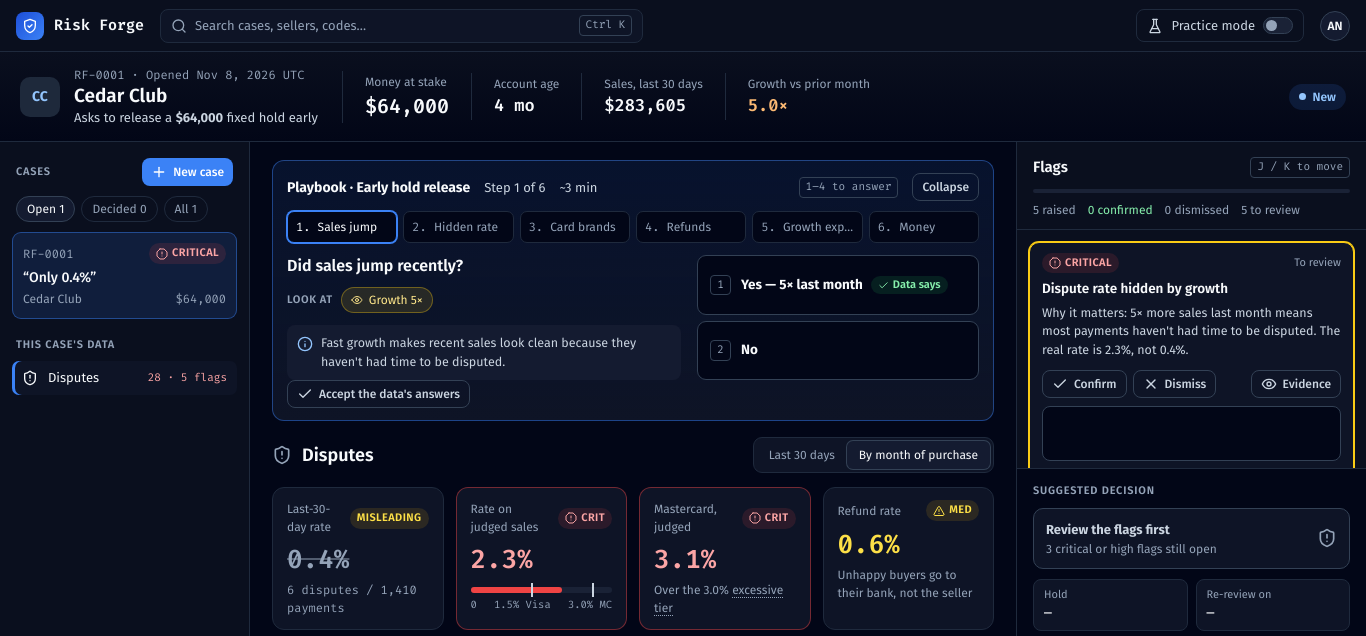
Test: playbook in the console › answering Hidden rate yes confirms the flag and logs one line; the same answer again logs nothing
Expected: the element "Playbook" is shown, x1=272 y1=160 x2=994 y2=421
Expected: the element with class "sel" is shown, x1=1029 y1=242 x2=1354 y2=468
Type keys "11"
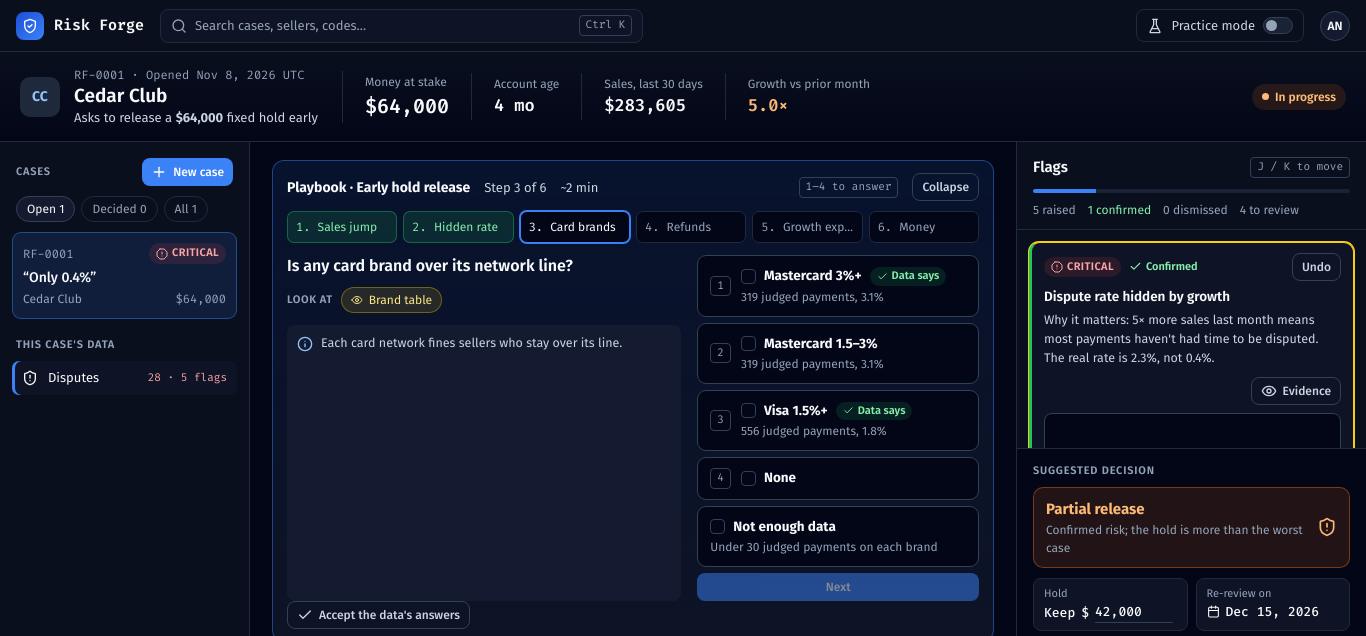
Result: the text "1 confirmed" is shown at x1=1088 y1=201 x2=1151 y2=219
Click the button "Hidden rate" at (466, 227), box x1=434 y1=218 x2=498 y2=236
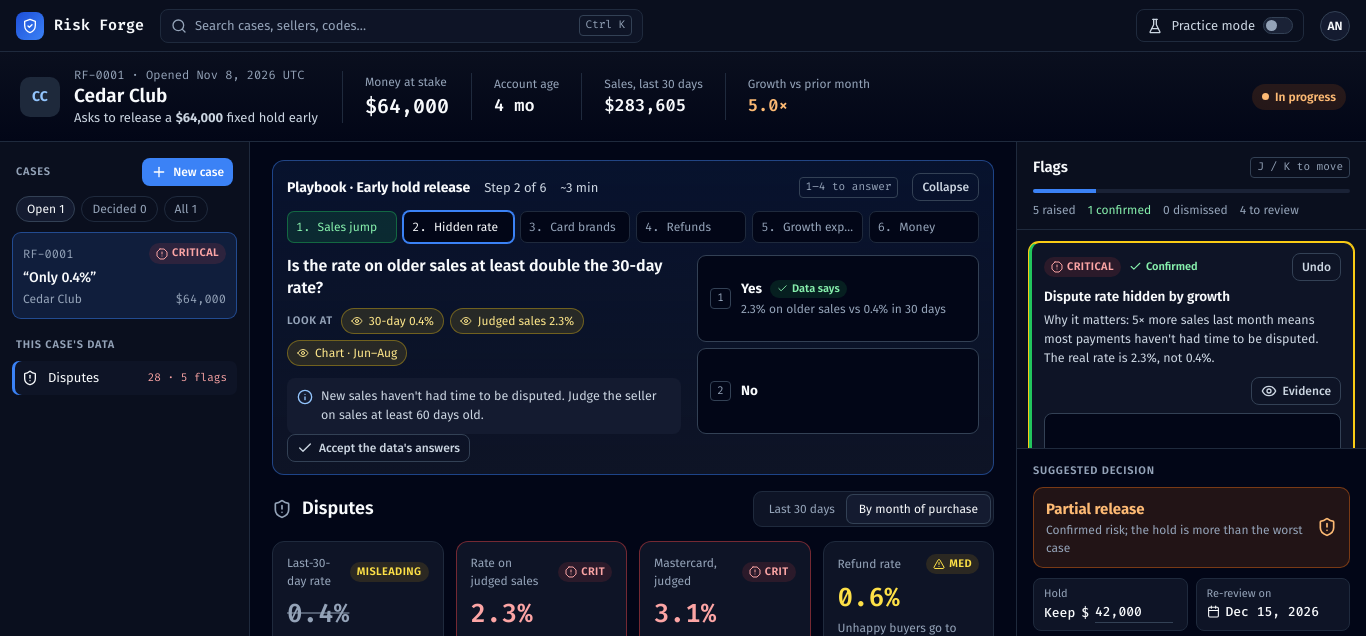
Type keys "1"
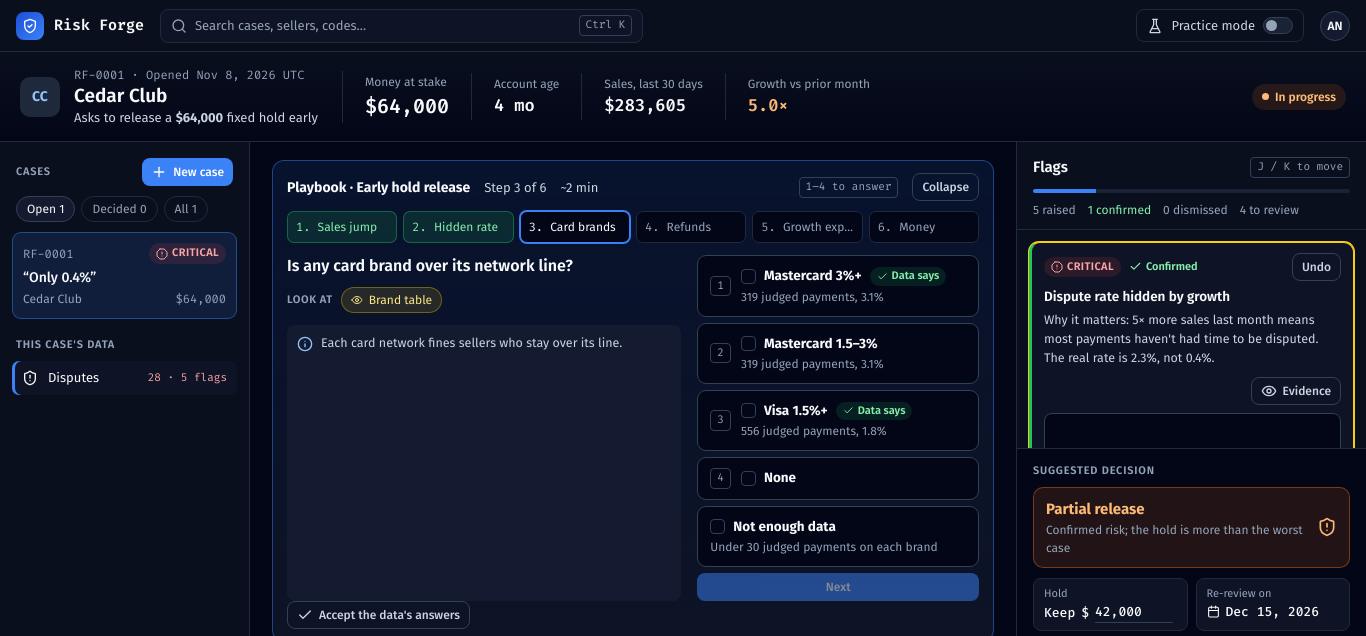
Result: the text "1 confirmed" is shown at x1=1088 y1=201 x2=1151 y2=219
Result: the text "Step 3 of 6" is shown at x1=484 y1=178 x2=546 y2=197
